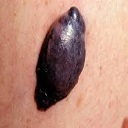Melanoma: (30, 5, 90, 114)
